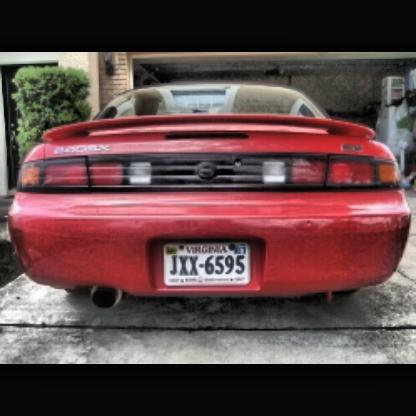Nissan 240SX Coupe 1998: (15, 85, 414, 313)
